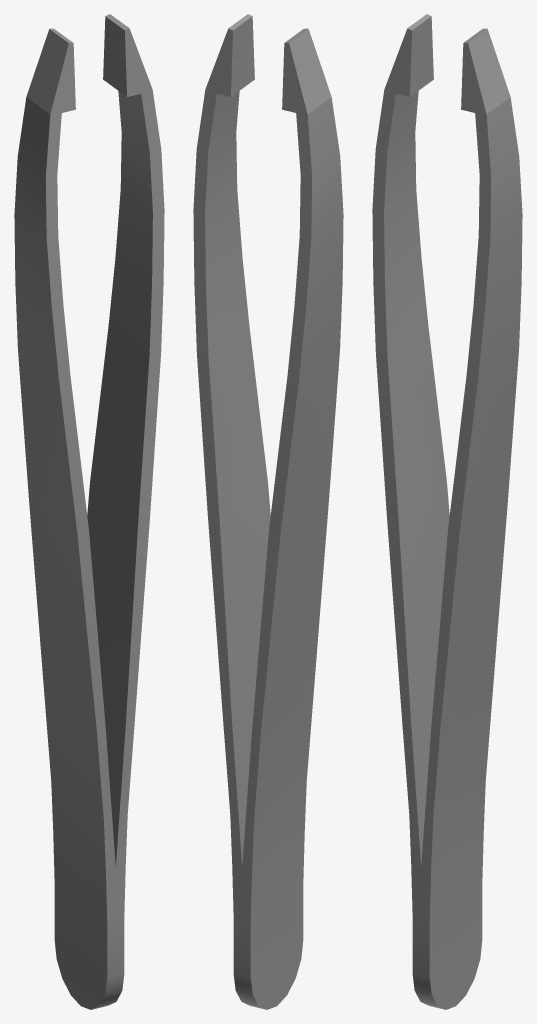
Rendered from tweezers.glb.
The picture shows the model from 3 angles, left to right: view 1: azimuth 30°, elevation 25°; view 2: azimuth 150°, elevation 25°; view 3: azimuth 330°, elevation 25°; orthographic projection.
Visible parts, largest first — view 1: tweezers; view 2: tweezers; view 3: tweezers.
Part boxes in pixels (x1,y1,x2,y2): tweezers: [14, 14, 164, 1009]; tweezers: [193, 14, 343, 1009]; tweezers: [372, 14, 522, 1009].
Size of the model in its own units: 0.012 by 0.095 by 0.00929.
Materials: 1 (1 with a texture image).
